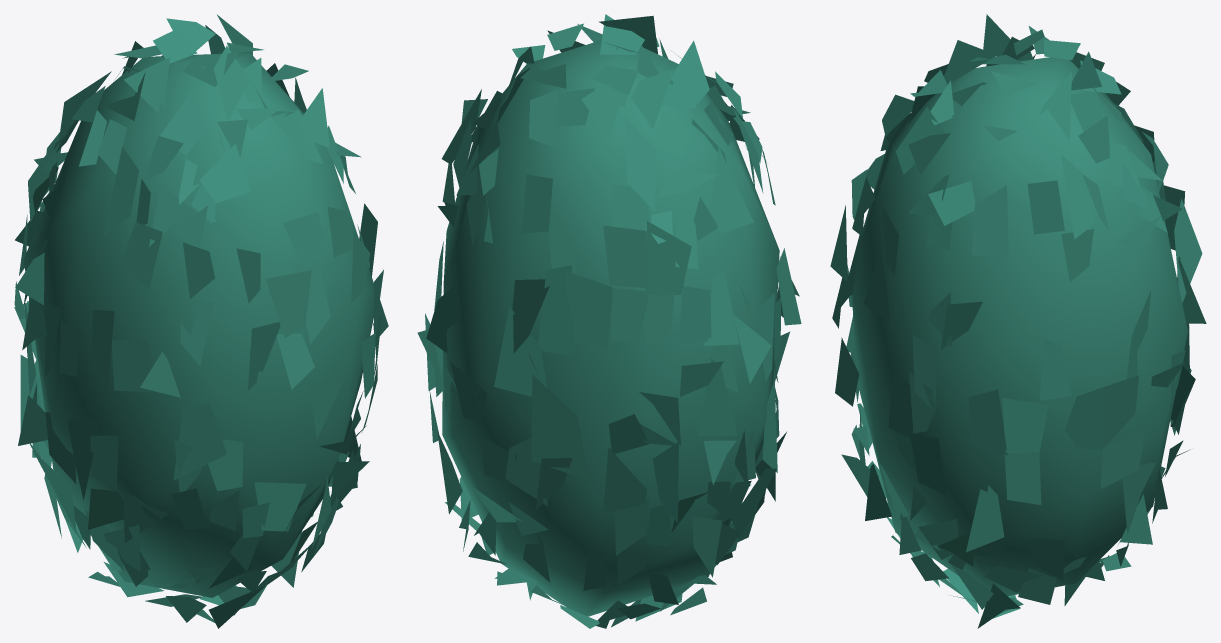
The model's file is buisson2.fbx.
3 views of the same model, side by side, from view 1: azimuth 30°, elevation 25°; view 2: azimuth 150°, elevation 25°; view 3: azimuth 270°, elevation 25° (orthographic). The views are drawn at different scales.
Visible parts, largest first — view 1: Buisson_2; view 2: Buisson_2; view 3: Buisson_2.
Boxes of the visible parts, x1=… form: Buisson_2: x1=14, y1=14, x2=388, y2=628; Buisson_2: x1=417, y1=14, x2=801, y2=628; Buisson_2: x1=830, y1=14, x2=1206, y2=628.
Bounding box in the file's own units: 1.86 × 3.21 × 1.9.
